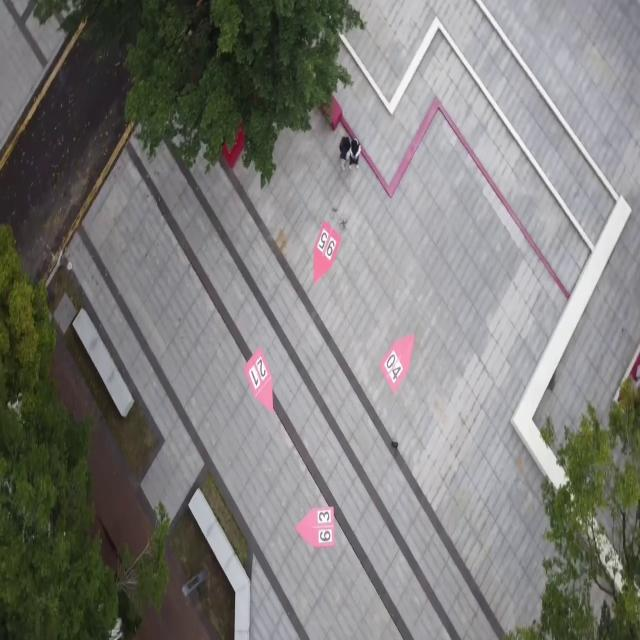-sign-: (244, 347, 274, 414), (381, 334, 414, 394), (295, 506, 336, 550), (313, 220, 341, 284)
